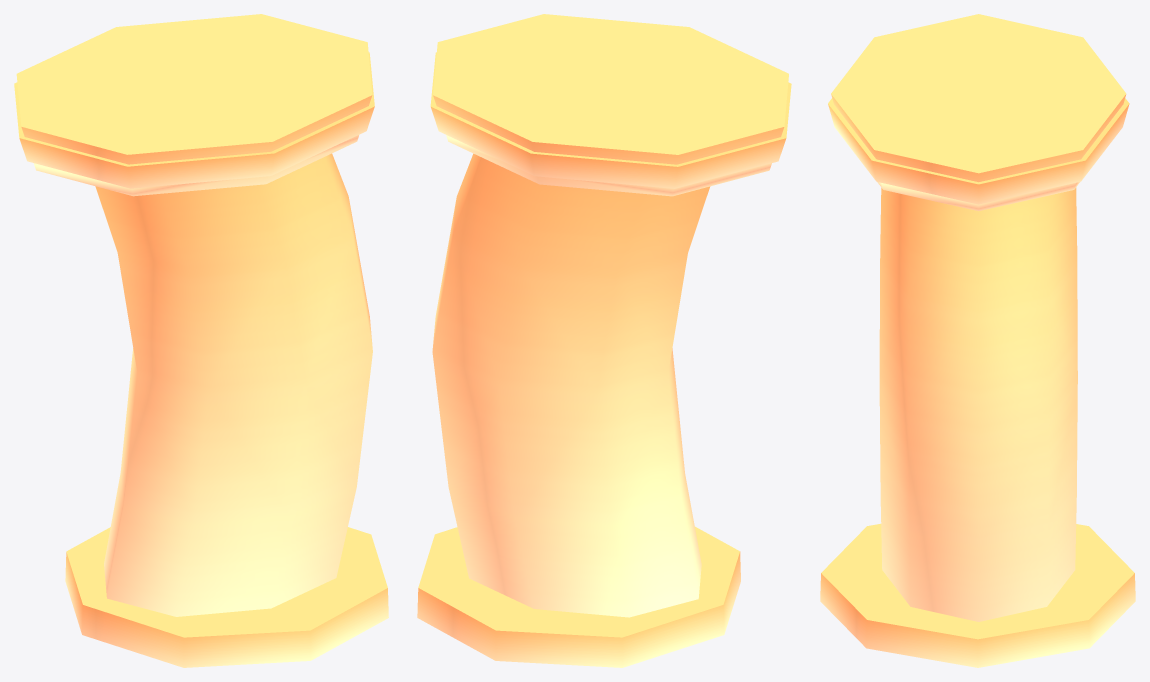
File: wood_grip_112_004.glb
The picture shows the model from 3 angles, left to right: view 1: azimuth 30°, elevation 25°; view 2: azimuth 150°, elevation 25°; view 3: azimuth 270°, elevation 25°; orthographic projection. The views are drawn at different scales.
Visible parts, largest first — view 1: wood_grip_112.004; view 2: wood_grip_112.004; view 3: wood_grip_112.004.
Boxes of the visible parts, x1,y1,x2,y2 form: wood_grip_112.004: [14, 14, 388, 667]; wood_grip_112.004: [417, 14, 791, 667]; wood_grip_112.004: [820, 14, 1135, 667].
Bounding box in the file's own units: 2.48 × 3.51 × 2.04.
1 material, 1 textured.
